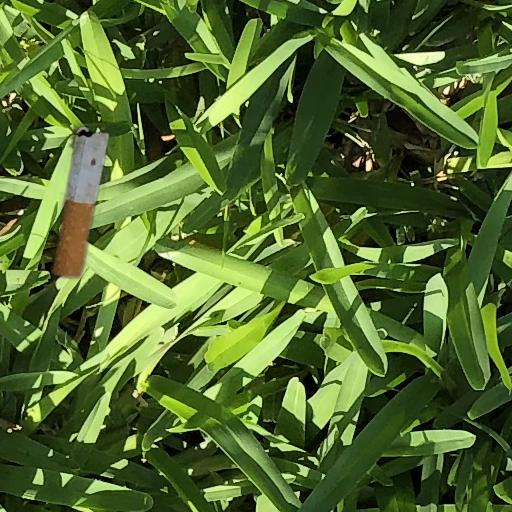smoke: (53, 127, 108, 277)
